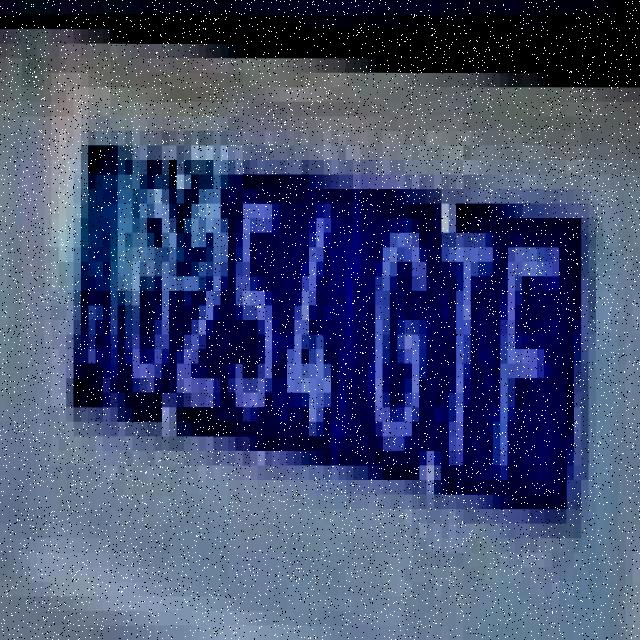licenseplate: (68, 124, 590, 548)
